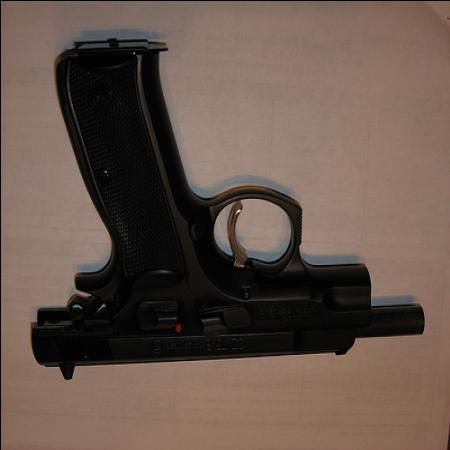Pistol: (36, 33, 426, 382)
